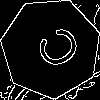C: (26, 23, 83, 77)
